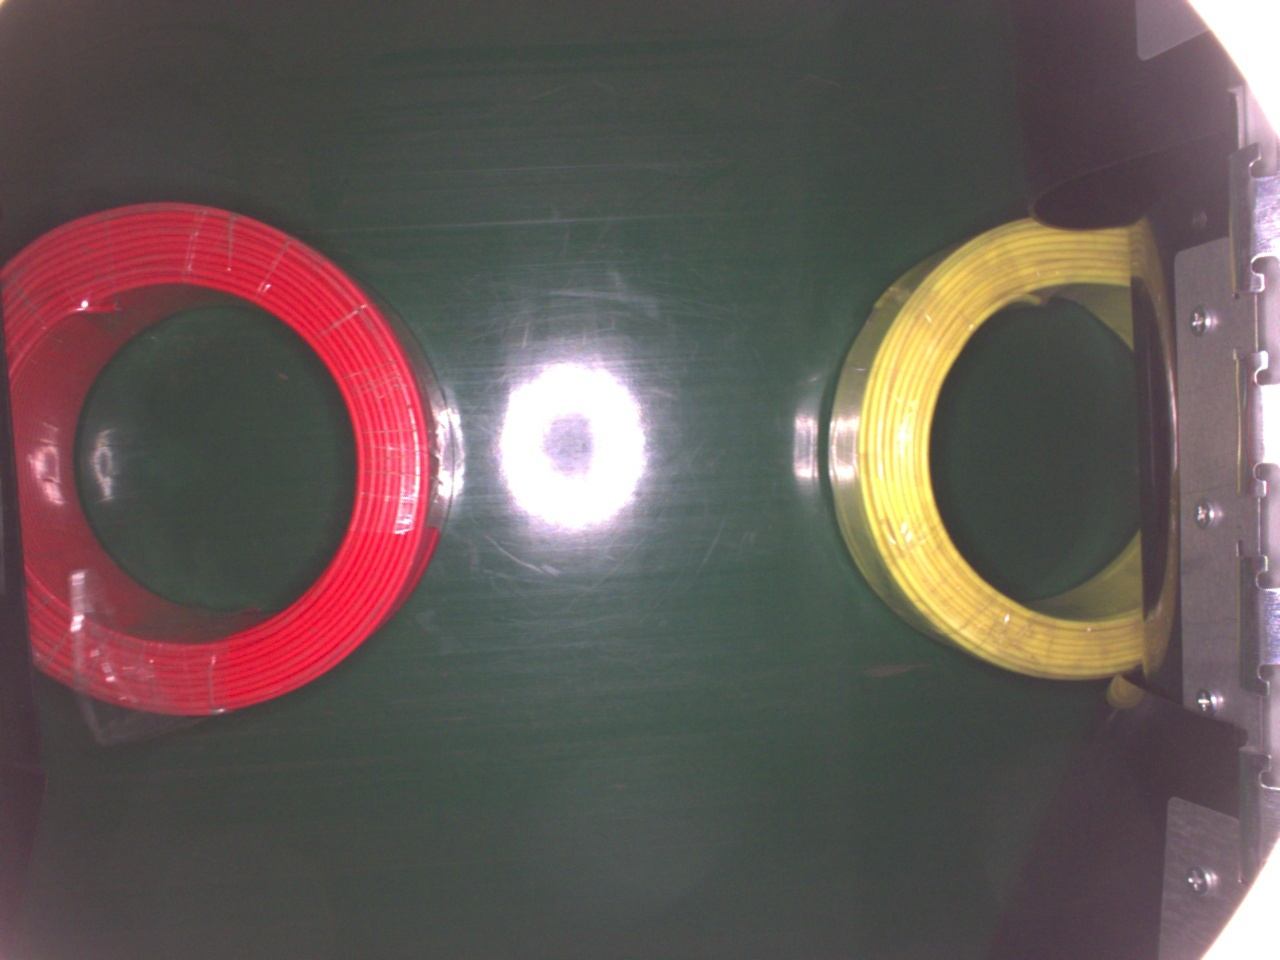red: (0, 206, 449, 717)
yellow: (820, 213, 1144, 679)
